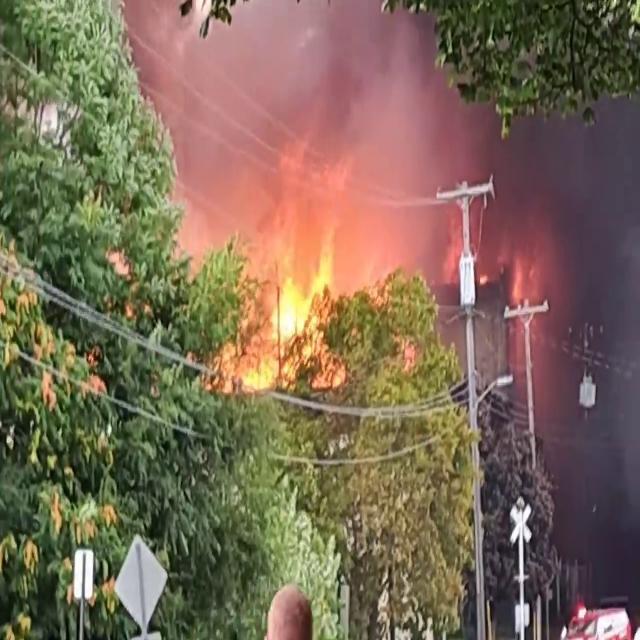Fire: (221, 222, 354, 396)
Smoke: (175, 1, 488, 219)
